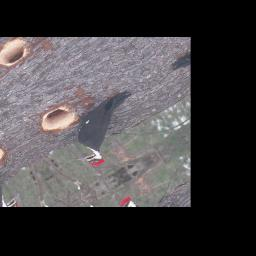Woodpecker: (49, 77, 159, 174)
